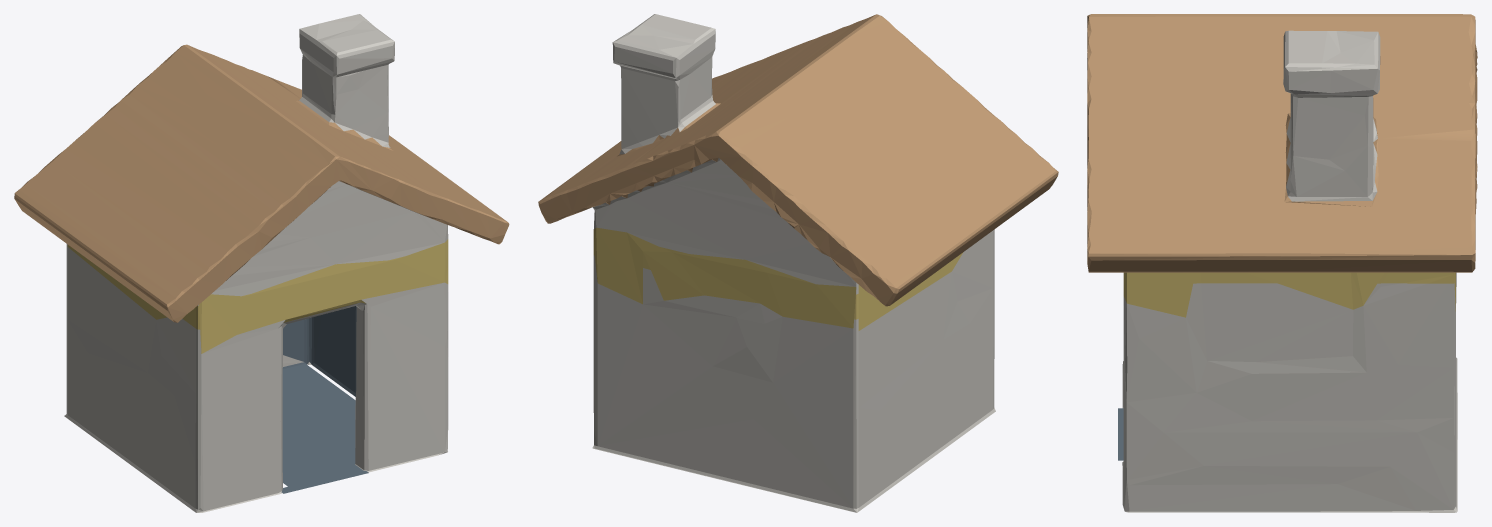
3 views of the same model, side by side, from view 1: azimuth 30°, elevation 25°; view 2: azimuth 150°, elevation 25°; view 3: azimuth 270°, elevation 25° (orthographic). The views are drawn at different scales.
Parts seen in each view (by area): view 1: geometry_0; view 2: geometry_0; view 3: geometry_0.
Part boxes in pixels (box(x1,y1,x2,y2)): geometry_0: box(14, 14, 509, 512); geometry_0: box(538, 14, 1058, 512); geometry_0: box(1087, 14, 1477, 512).
Size of the model in its own units: 0.9235 by 0.9347 by 0.7293.
